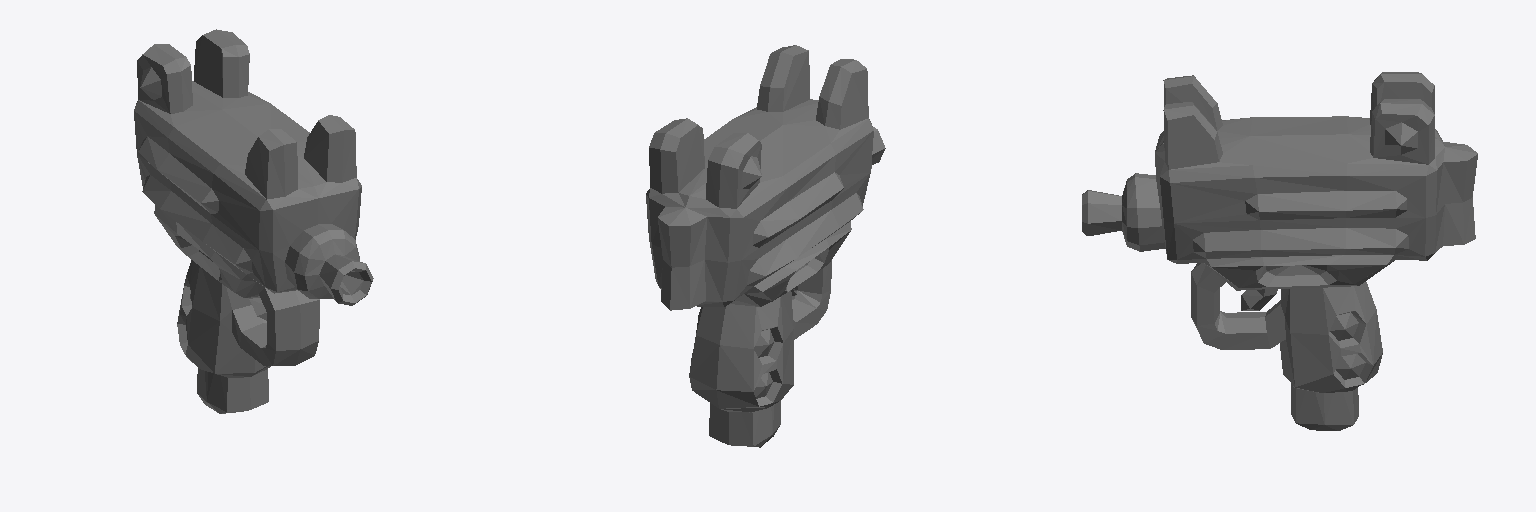
Rendered from Uzi.obj.
3 renders of one model, left to right at view 1: azimuth 30°, elevation 25°; view 2: azimuth 150°, elevation 25°; view 3: azimuth 270°, elevation 25°, orthographic.
Visible parts, largest first — view 1: Inst3D_RefRep.242_Ref, Inst3D_RefRep.242; view 2: Inst3D_RefRep.242_Ref, Inst3D_RefRep.242; view 3: Inst3D_RefRep.242_Ref, Inst3D_RefRep.242.
Boxes of the visible parts, <box> form: Inst3D_RefRep.242_Ref: <box>134,29,373,377</box>; Inst3D_RefRep.242: <box>197,368,268,413</box>; Inst3D_RefRep.242_Ref: <box>646,45,885,412</box>; Inst3D_RefRep.242: <box>709,401,780,447</box>; Inst3D_RefRep.242_Ref: <box>1082,72,1477,392</box>; Inst3D_RefRep.242: <box>1291,383,1358,430</box>.
Size of the model in its own units: 1.09 by 2.65 by 2.85.